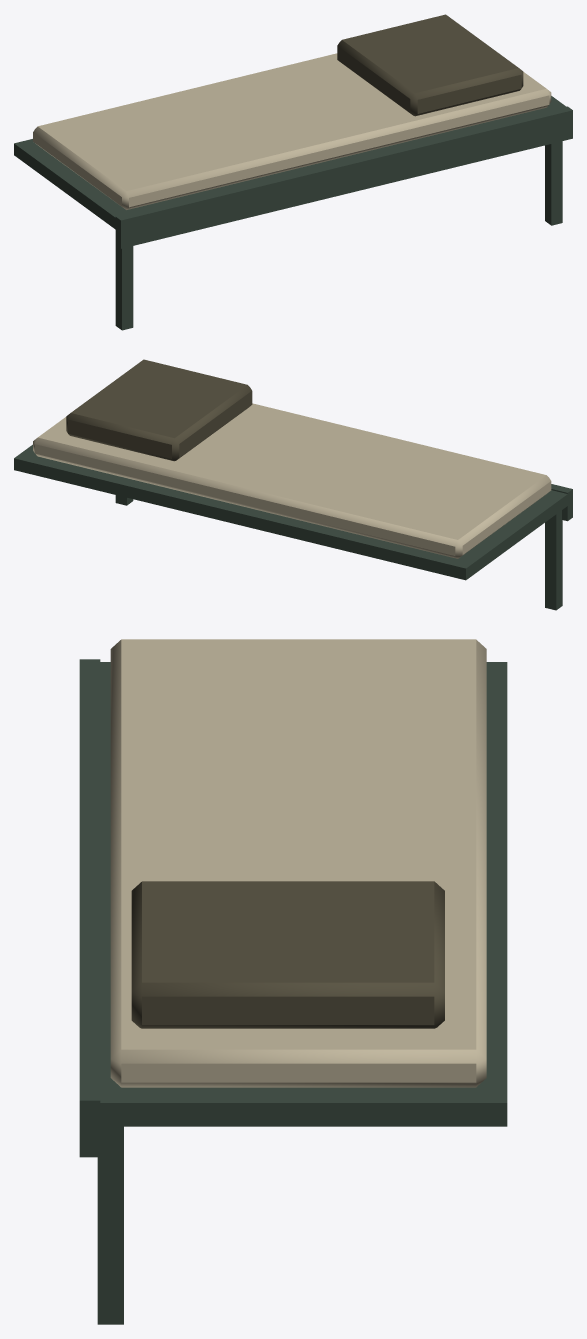
The model's file is cell_bunk.glb.
3 renders of one model, top to bottom at view 1: azimuth 30°, elevation 25°; view 2: azimuth 150°, elevation 25°; view 3: azimuth 270°, elevation 25°, orthographic. The views are drawn at different scales.
Visible parts, largest first — view 1: CellBunk; view 2: CellBunk; view 3: CellBunk.
Boxes of the visible parts, x1=… form: CellBunk: x1=14, y1=14, x2=572, y2=330; CellBunk: x1=14, y1=359, x2=572, y2=610; CellBunk: x1=79, y1=639, x2=507, y2=1324.
Size of the model in its own units: 2 by 0.655 by 0.82.
